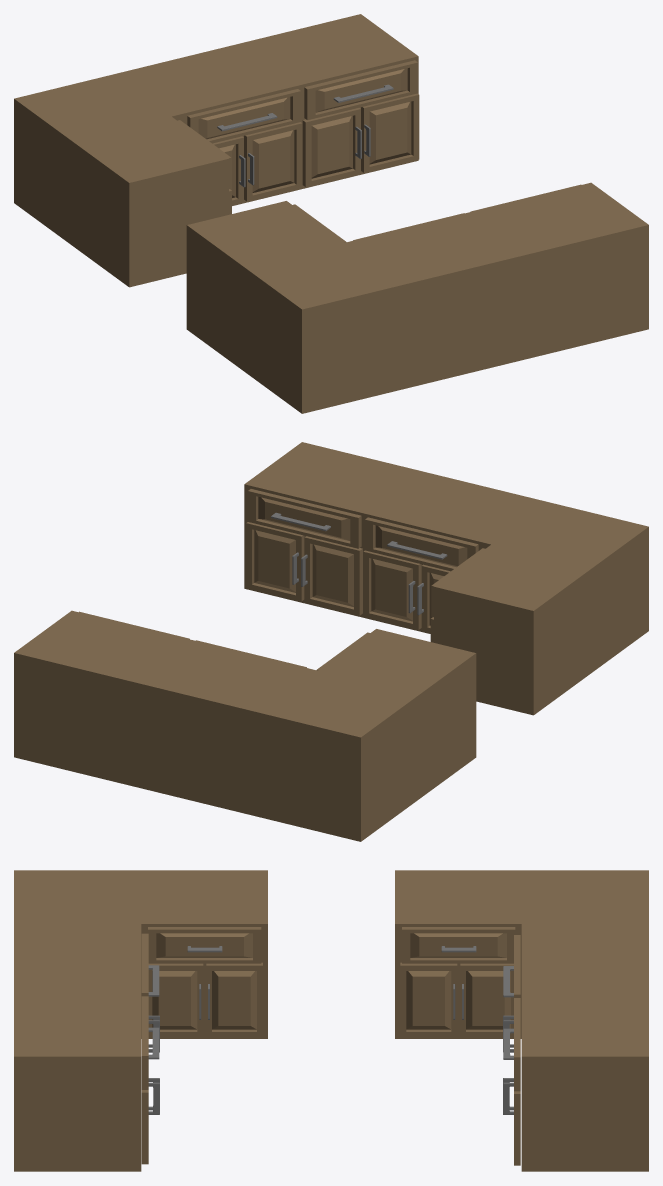
Rendered from BottomCounter.fbx.
The picture shows the model from 3 angles, top to bottom: view 1: azimuth 30°, elevation 25°; view 2: azimuth 150°, elevation 25°; view 3: azimuth 270°, elevation 25°; orthographic projection. The views are drawn at different scales.
Parts seen in each view (by area): view 1: Bottom Counter; view 2: Bottom Counter; view 3: Bottom Counter.
Boxes of the visible parts, left/top/right/bottom form: Bottom Counter: left=14, top=14, right=648, bottom=413; Bottom Counter: left=14, top=442, right=648, bottom=841; Bottom Counter: left=14, top=870, right=648, bottom=1171.
Bounding box in the file's own units: 247 × 71.02 × 355.
